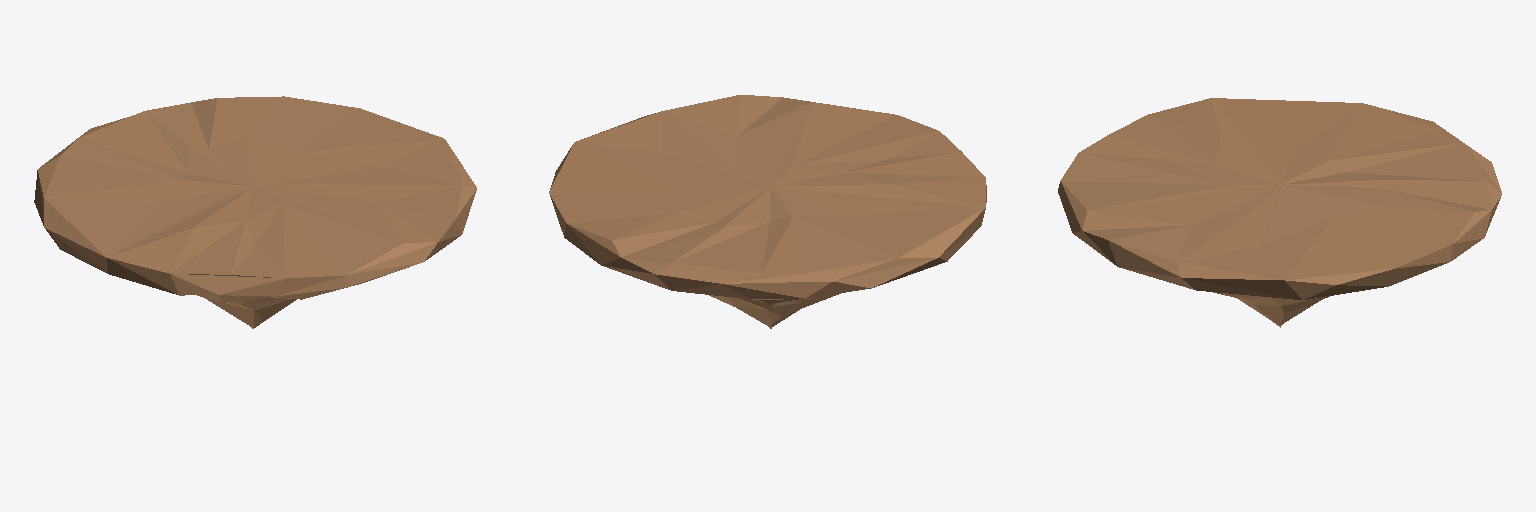
File: montain.obj
3 views of the same model, side by side, from view 1: azimuth 30°, elevation 25°; view 2: azimuth 150°, elevation 25°; view 3: azimuth 270°, elevation 25° (orthographic).
Size of the model in its own units: 668 by 242 by 673.